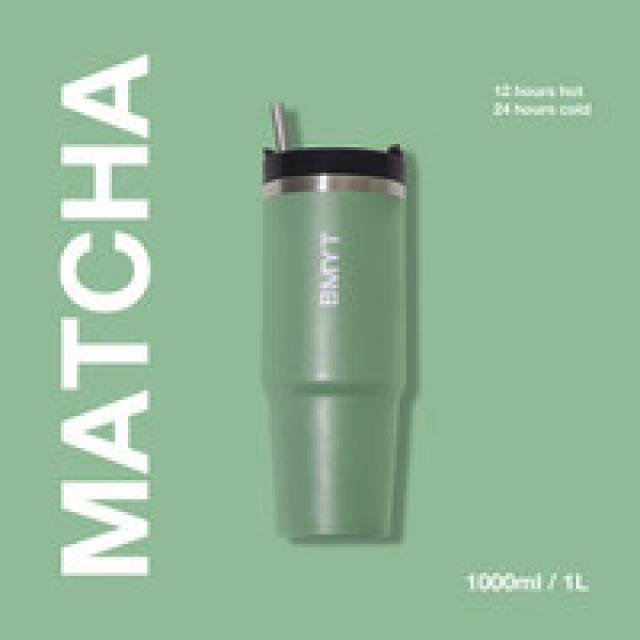bottle: (258, 142, 409, 542)
